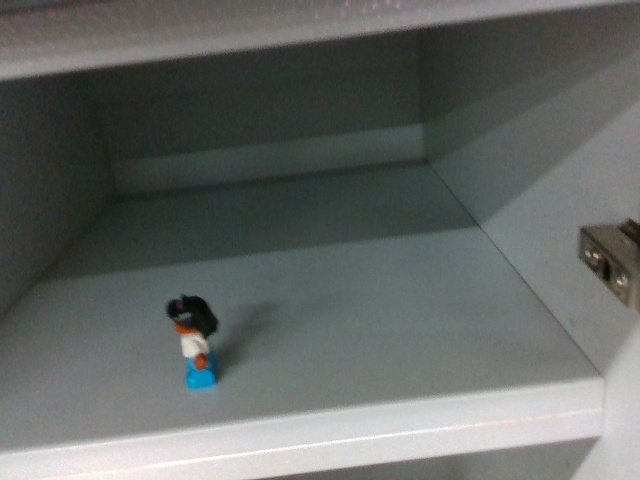people: (162, 298, 222, 391)
